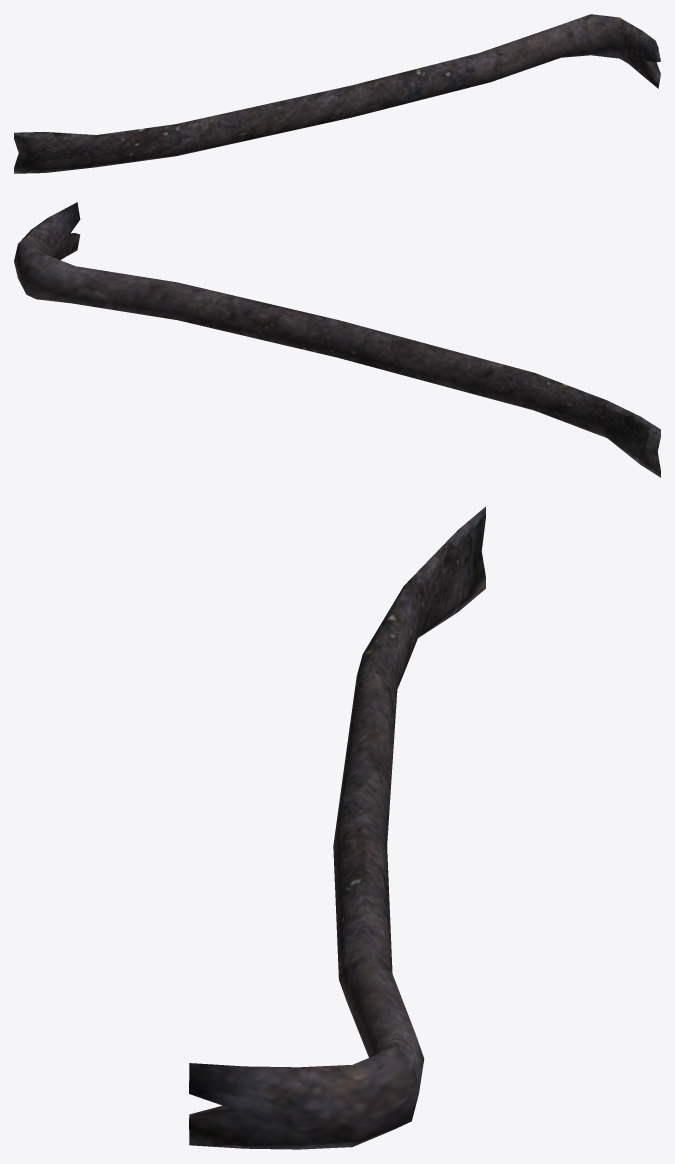
File: crowbar.dae
3 renders of one model, top to bottom at view 1: azimuth 30°, elevation 25°; view 2: azimuth 150°, elevation 25°; view 3: azimuth 270°, elevation 25°, orthographic. The views are drawn at different scales.
Parts seen in each view (by area): view 1: Iron; view 2: Iron; view 3: Iron.
Boxes of the visible parts, x1,y1,x2,y2 form: Iron: (14, 14, 660, 173); Iron: (14, 202, 660, 477); Iron: (189, 506, 485, 1149).
Size of the model in its own units: 0.67 by 0.045 by 0.1472.
Materials: 1 (1 with a texture image).
